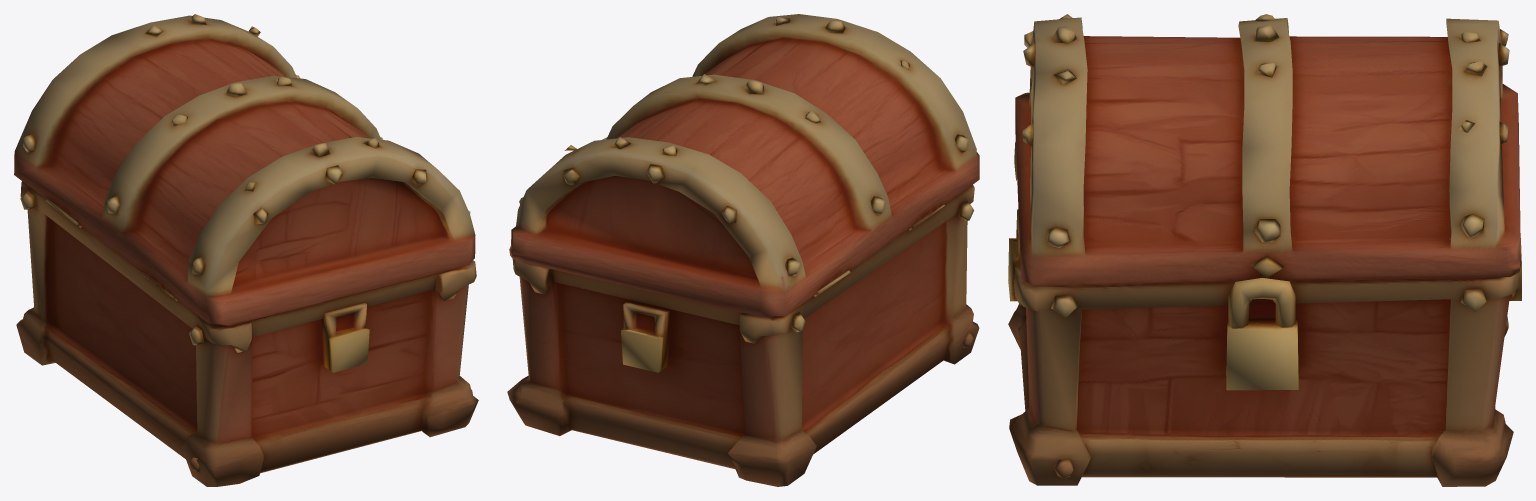
Rendered from treasure-chest.glb.
3 views of the same model, side by side, from view 1: azimuth 30°, elevation 25°; view 2: azimuth 150°, elevation 25°; view 3: azimuth 270°, elevation 25° (orthographic). The views are drawn at different scales.
Visible parts, largest first — view 1: tripo_node_2e838fe8-7b5e-4344-af46-c310599365e1; view 2: tripo_node_2e838fe8-7b5e-4344-af46-c310599365e1; view 3: tripo_node_2e838fe8-7b5e-4344-af46-c310599365e1.
Part boxes in pixels (<box>): tripo_node_2e838fe8-7b5e-4344-af46-c310599365e1: <box>14,14,478,486</box>; tripo_node_2e838fe8-7b5e-4344-af46-c310599365e1: <box>507,14,979,486</box>; tripo_node_2e838fe8-7b5e-4344-af46-c310599365e1: <box>1008,14,1521,486</box>.
Bounding box in the file's own units: 0.8027 × 0.8105 × 0.998.
1 material, 1 textured.
